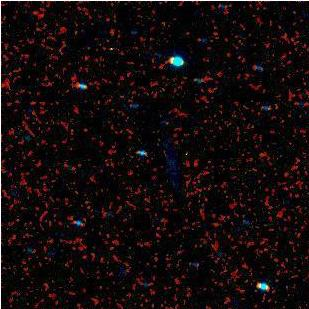star: (176, 135, 206, 165)
